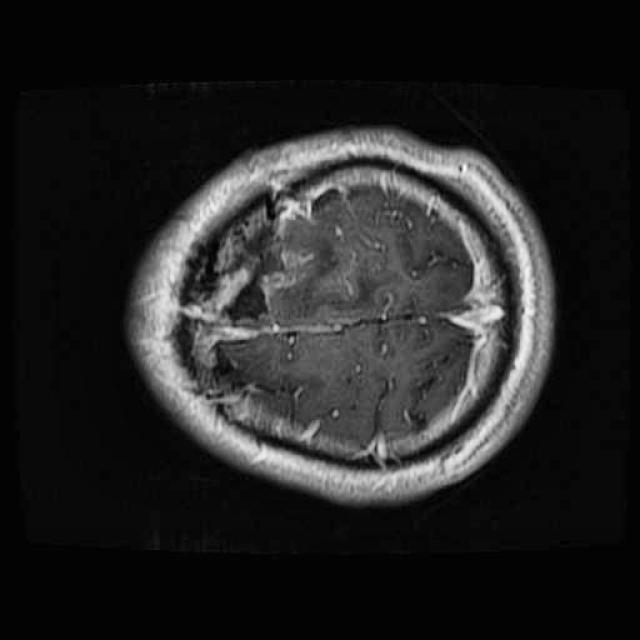Non-Tumor: (192, 190, 309, 345)
